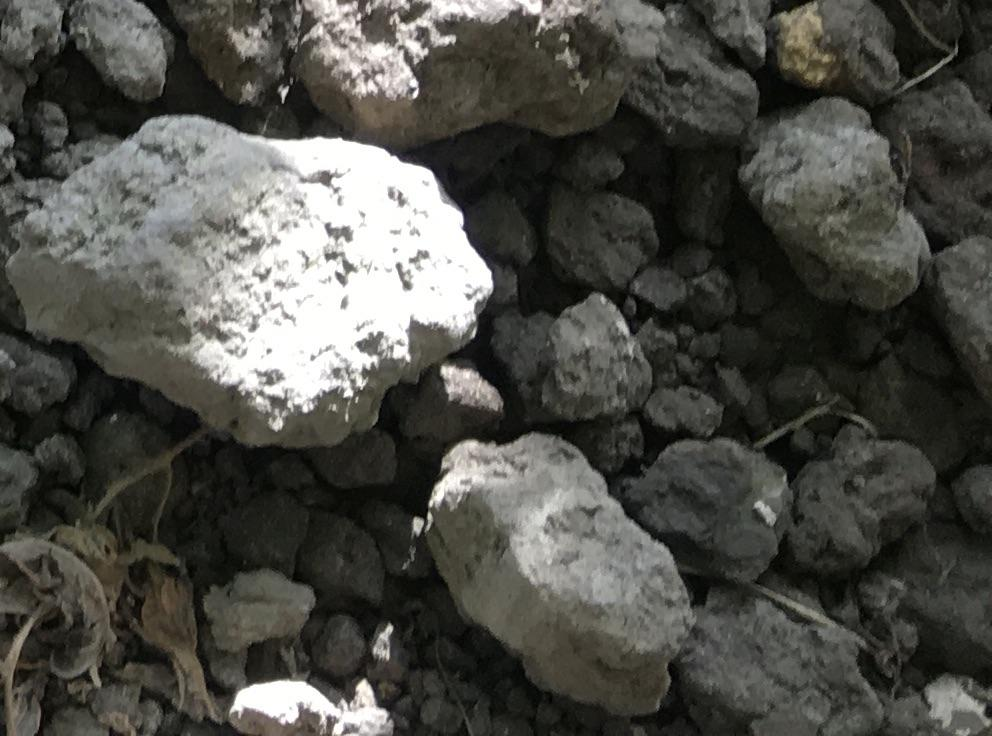block: (4, 115, 497, 452), (421, 436, 697, 716), (739, 93, 935, 314)
